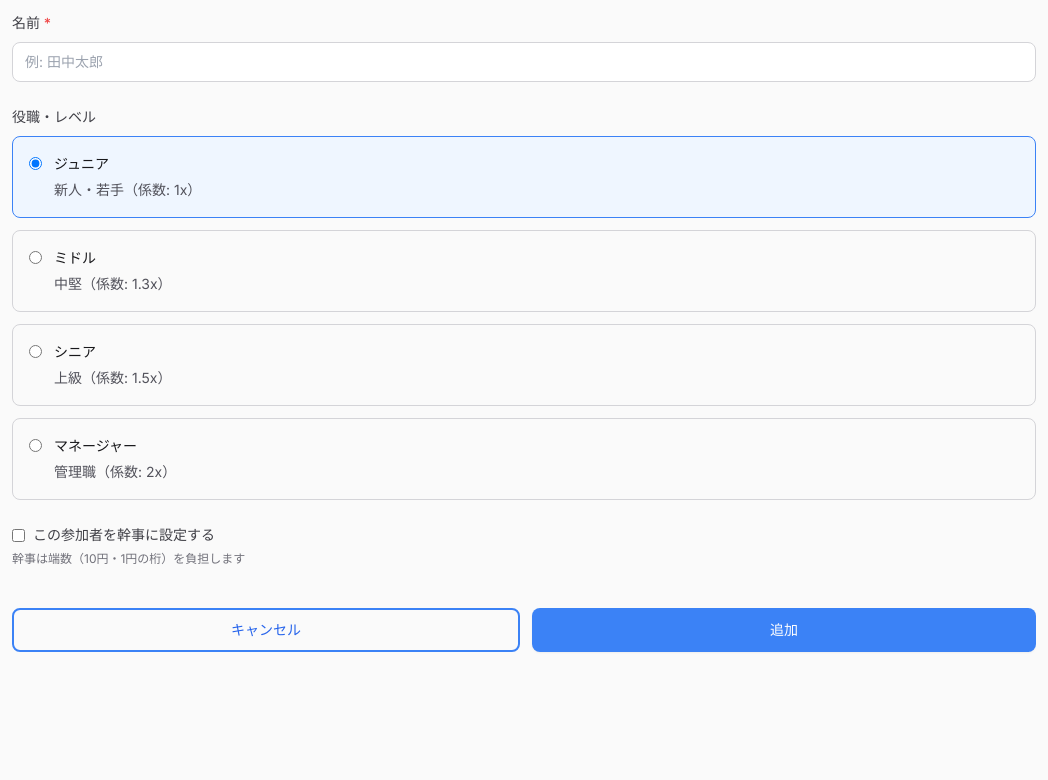
AddParticipantForm › TC008-3: 不正文字でエラーを表示
Type "<script>" into the field labelled "名前 *".
click(524, 62); type("<script>")  # box [12,42,1036,82]
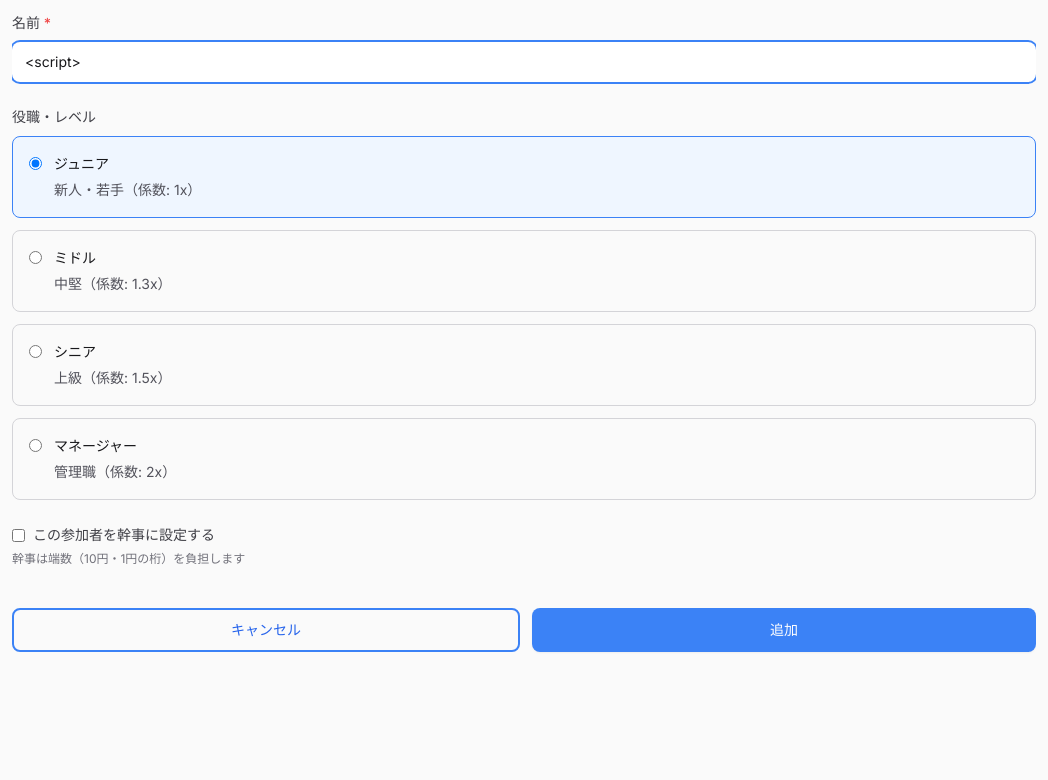
Click the button "追加".
click(784, 630)  # box [532,608,1036,652]
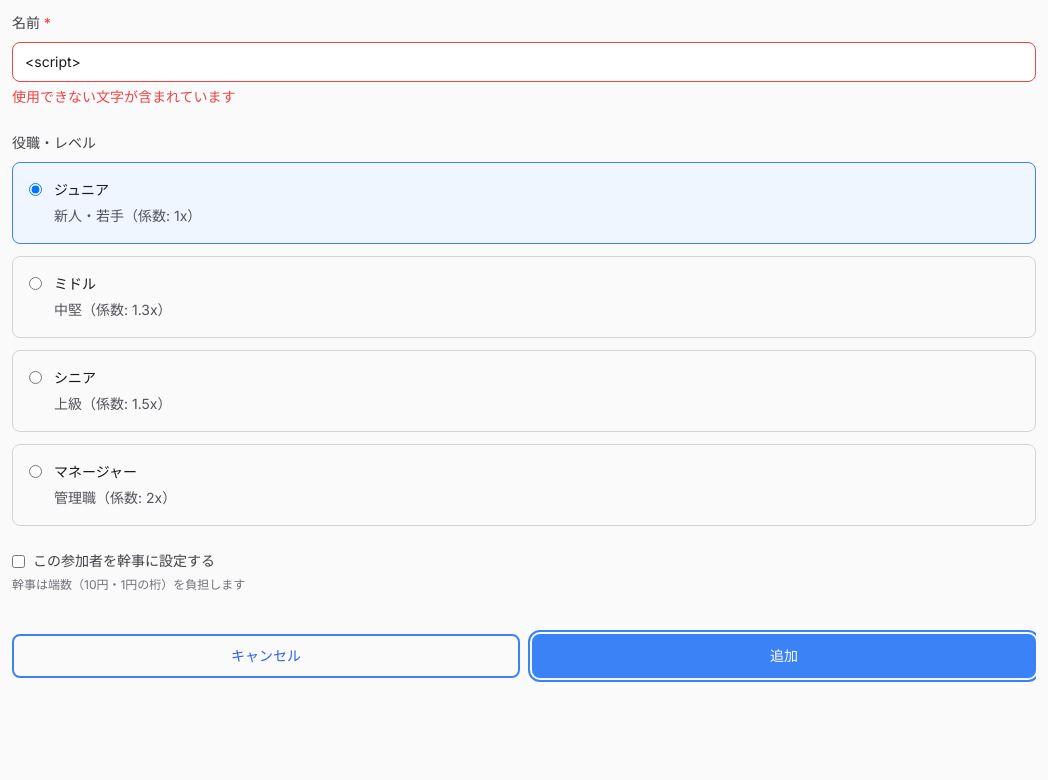
expect the text "使用できない文字が含まれています" is shown: met, box [12,88,236,105]
